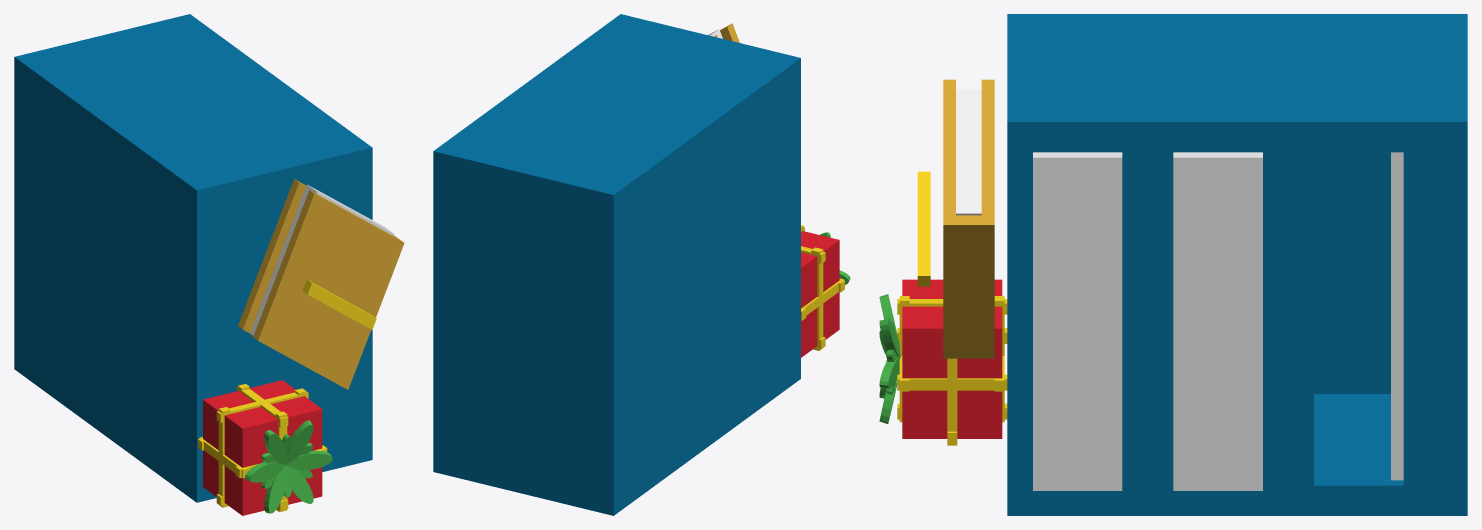
The model's file is tinker.obj.
3 views of the same model, side by side, from view 1: azimuth 30°, elevation 25°; view 2: azimuth 150°, elevation 25°; view 3: azimuth 270°, elevation 25° (orthographic). The views are drawn at different scales.
Visible parts, largest first — view 1: group_0_30377, group_0_14789940, group_0_15277357, group_0_4634441, group_0_16768282, group_0_16448250; view 2: group_0_30377, group_0_15277357, group_0_16768282; view 3: group_0_30377, group_0_16448250, group_0_14789940, group_0_15277357, group_0_16768282, group_0_4634441.
Boxes of the visible parts, x1,y1,x2,y2 form: group_0_30377: [14, 14, 372, 502]; group_0_14789940: [238, 179, 404, 389]; group_0_15277357: [203, 380, 322, 515]; group_0_4634441: [245, 420, 332, 513]; group_0_16768282: [198, 279, 376, 512]; group_0_16448250: [250, 184, 393, 335]; group_0_30377: [433, 14, 800, 515]; group_0_15277357: [801, 231, 839, 357]; group_0_16768282: [801, 225, 844, 350]; group_0_30377: [1007, 14, 1467, 515]; group_0_16448250: [956, 89, 1403, 490]; group_0_14789940: [943, 79, 994, 358]; group_0_15277357: [902, 279, 1002, 438]; group_0_16768282: [897, 171, 1007, 445]; group_0_4634441: [879, 294, 900, 423].
Size of the model in its own units: 21 by 34 by 46.
